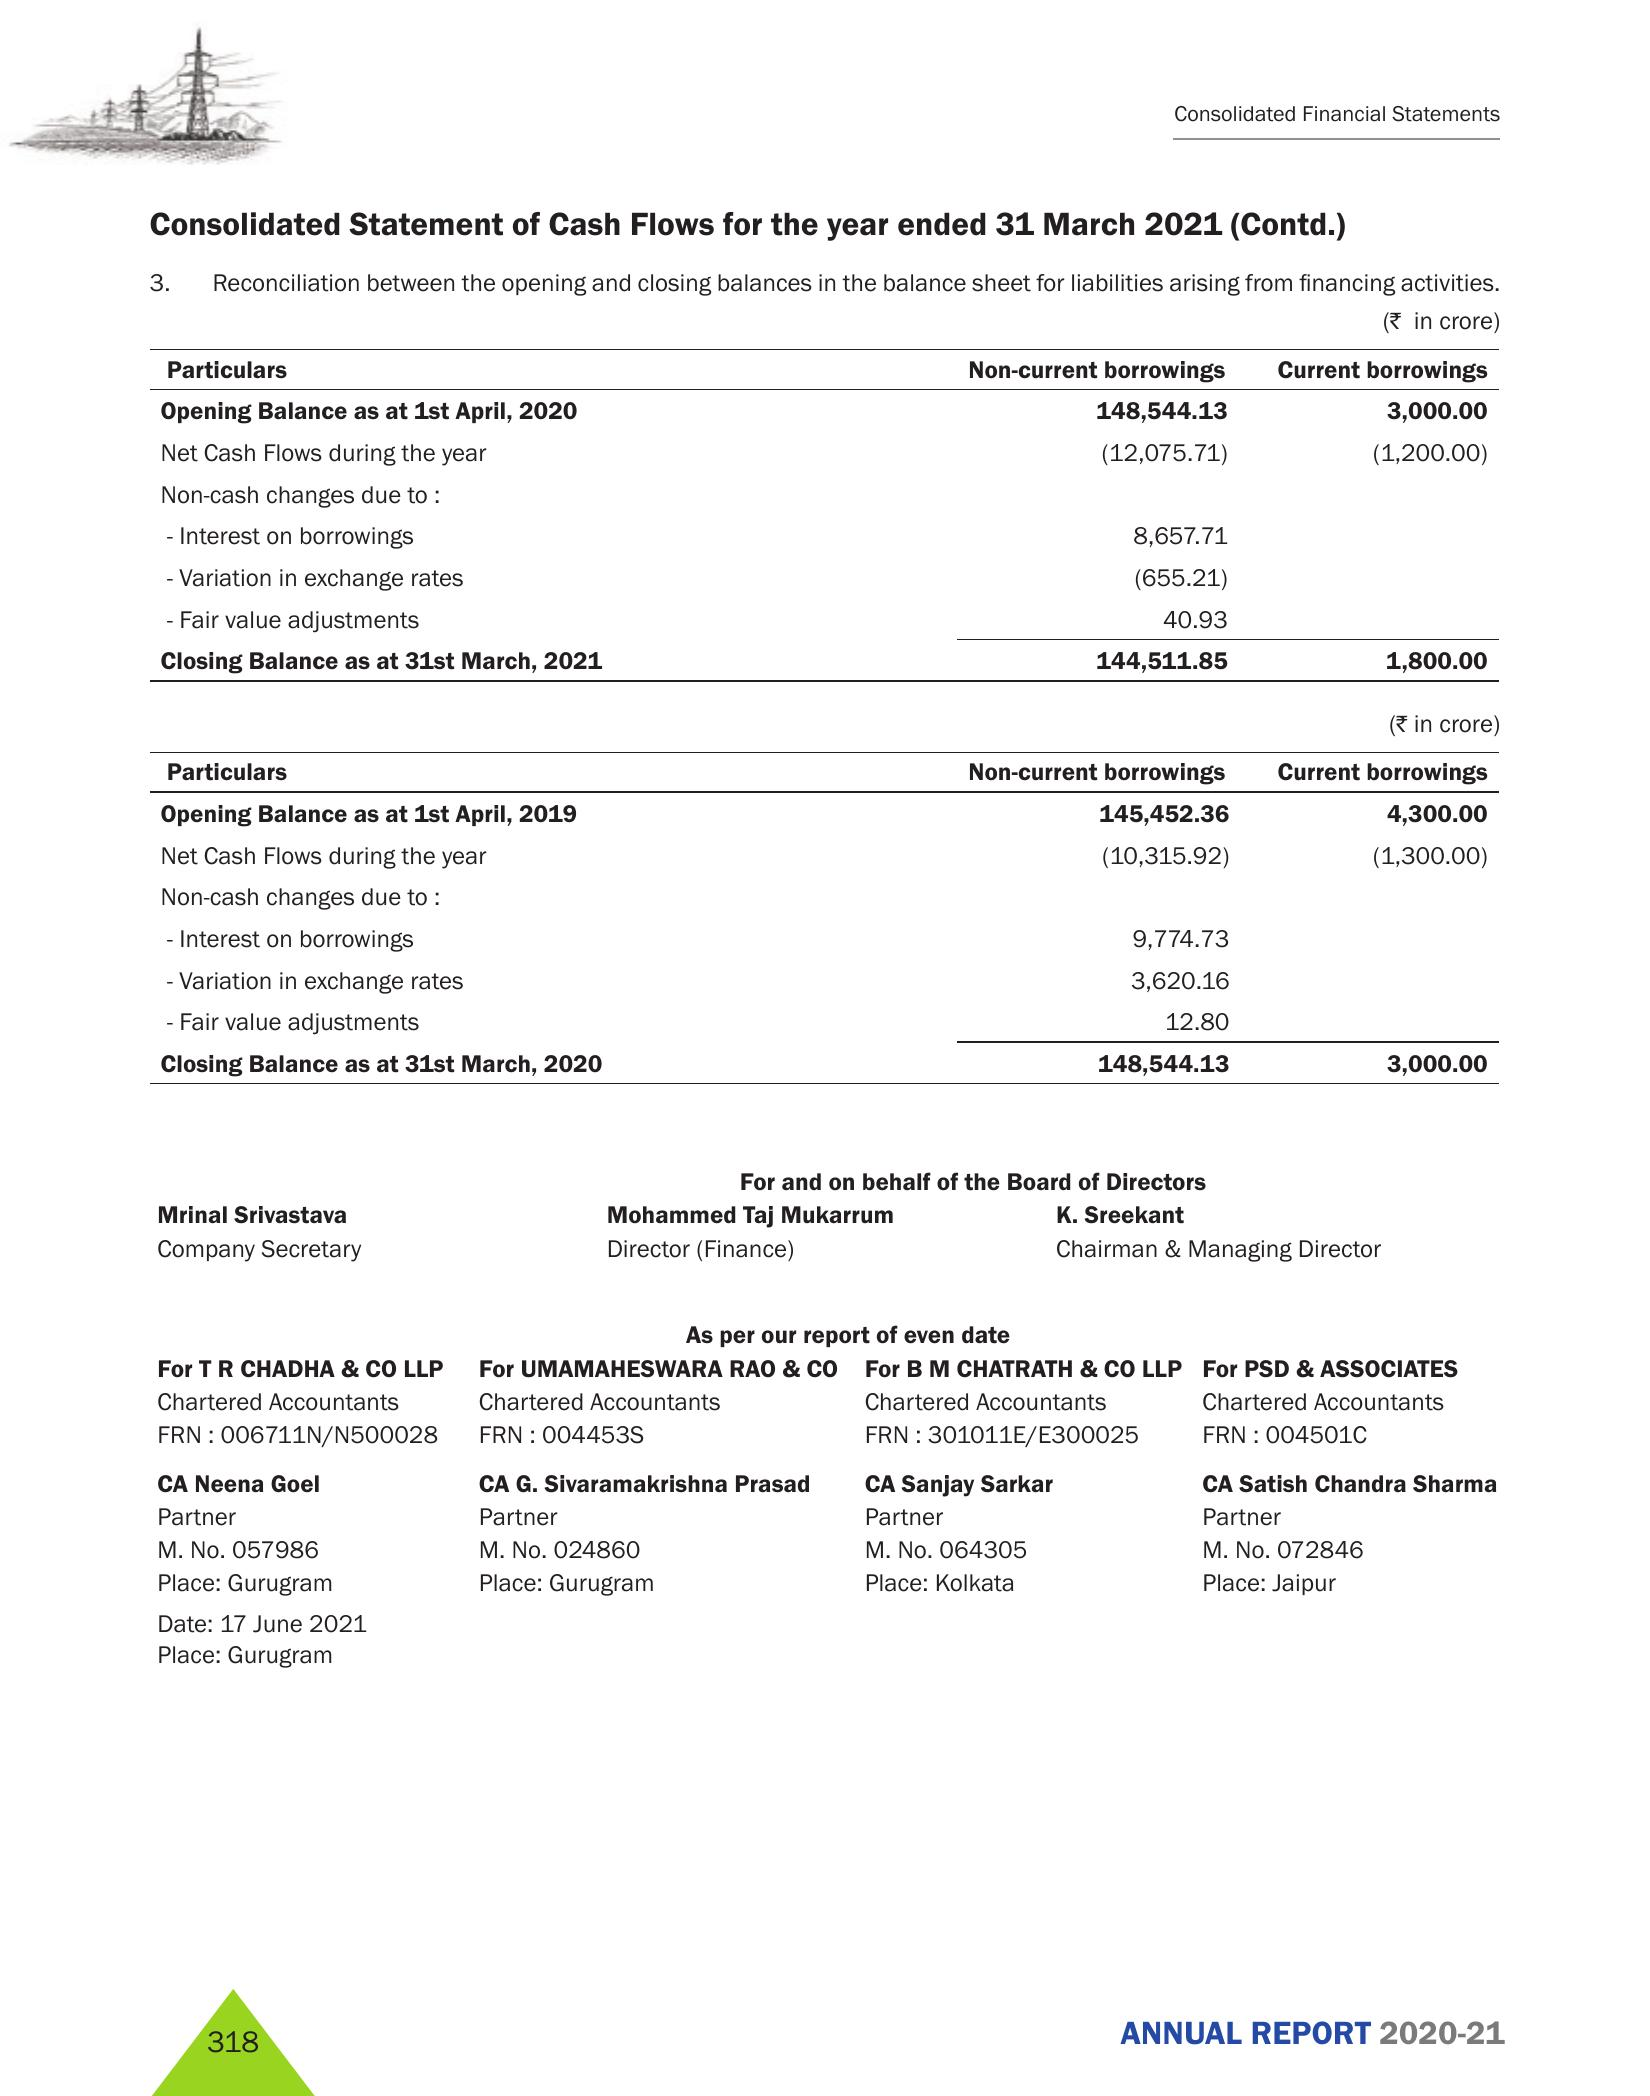Footer: (0, 1962, 1650, 2096)
Header: (0, 0, 1650, 172)
Table: (94, 286, 1507, 682), (111, 732, 1524, 1084)
